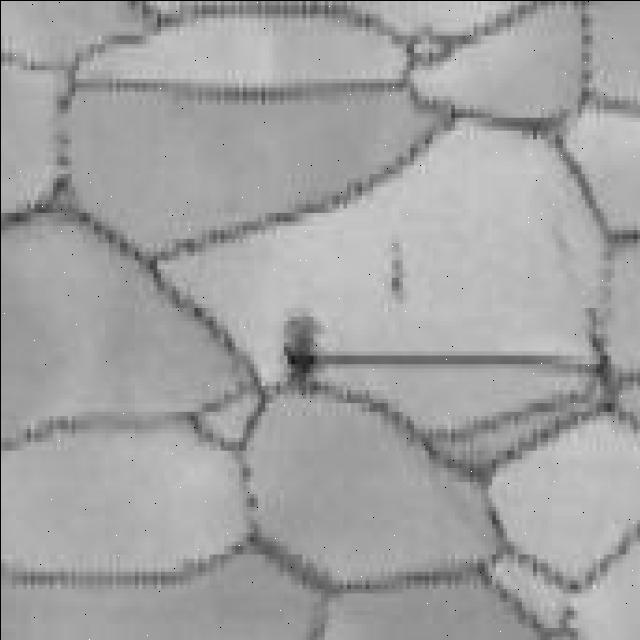good_void: (277, 308, 326, 375), (384, 236, 405, 301)
